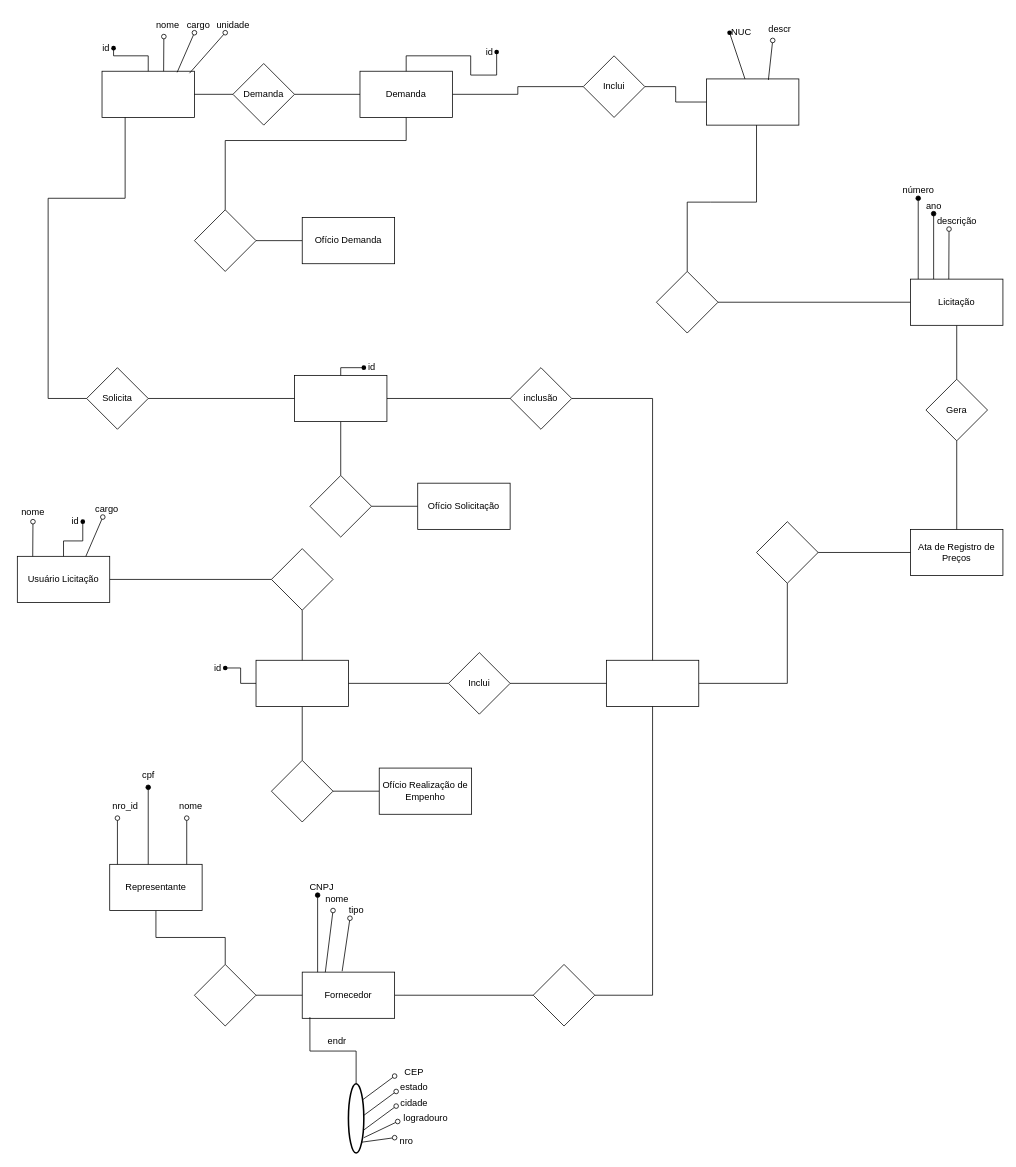
This 1016x1167 diagram has some shape labels left out. Here are the shapes that lost their labels. From the top down, the centre of each, then its label:
point 147,93: Usuário Solicitante
point 752,101: Item
point 687,302: Aquisição
point 340,398: Solicitação
point 787,552: Pertence
point 302,579: Pede
point 301,683: Pedido
point 652,683: Item em ata
point 225,995: Representa
point 563,995: Fornece
